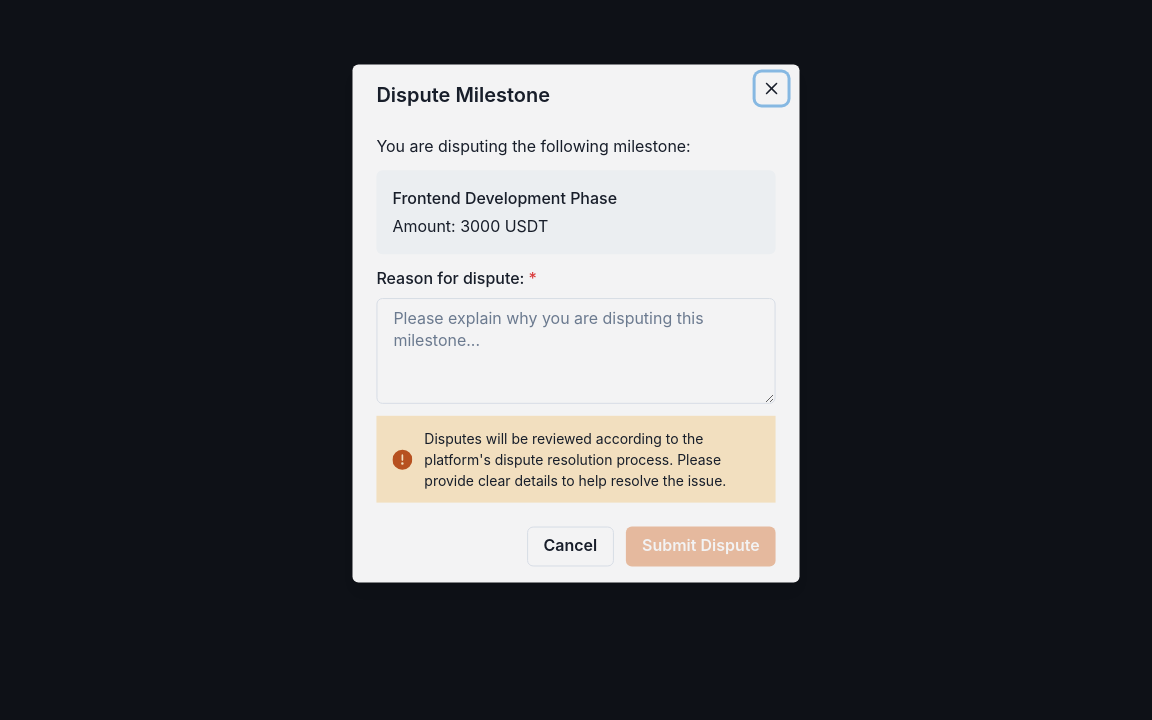
DisputeMilestoneModal › enables submit button when reason is provided
The width and height of the screenshot is (1152, 720).
In the text box labelled "Reason for dispute:*": (576, 351) [376,298,776,404], type "Valid dispute reason"
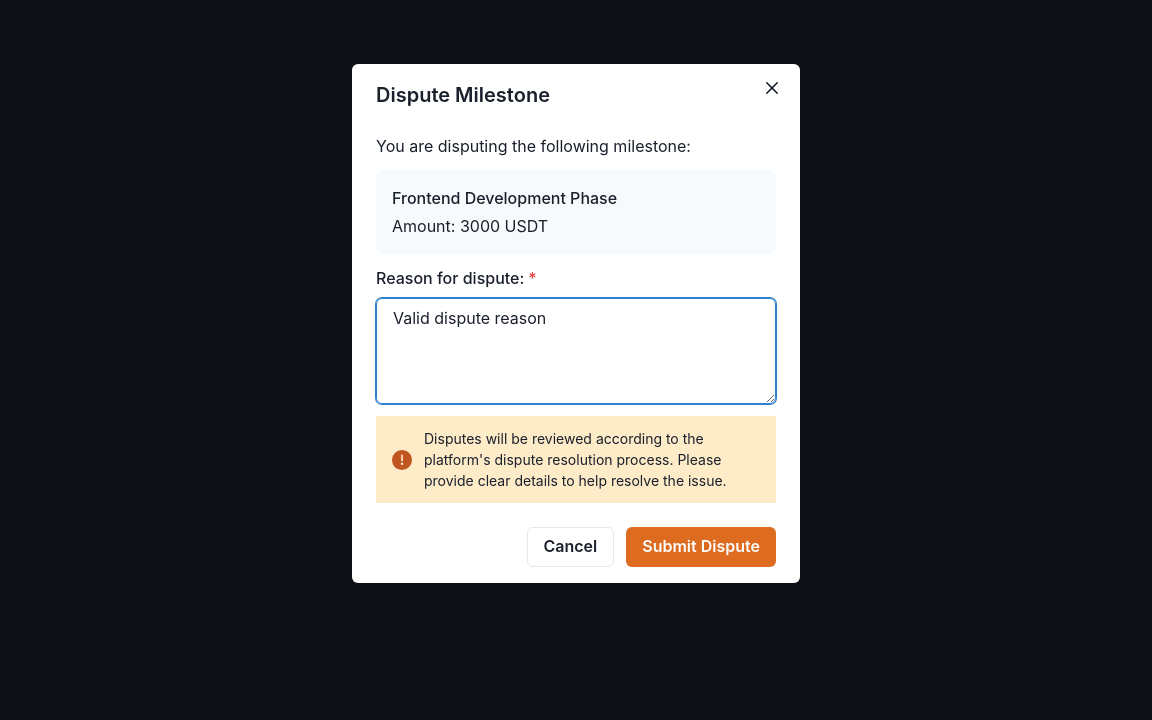
Check: the button "Submit Dispute" is enabled, box [626,527,776,567]
